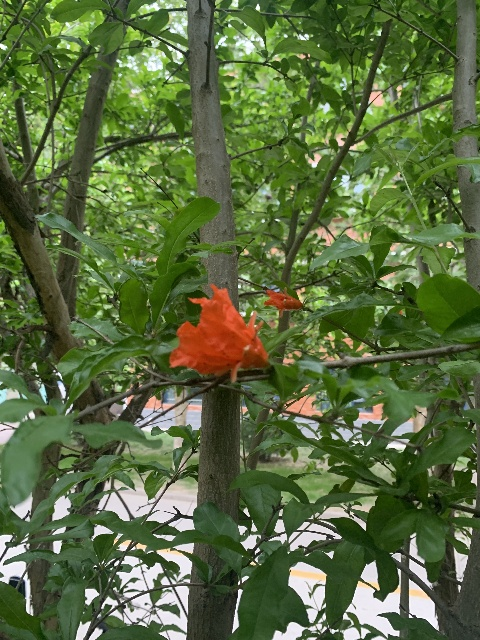flower: (168, 283, 269, 383), (263, 287, 302, 316)
